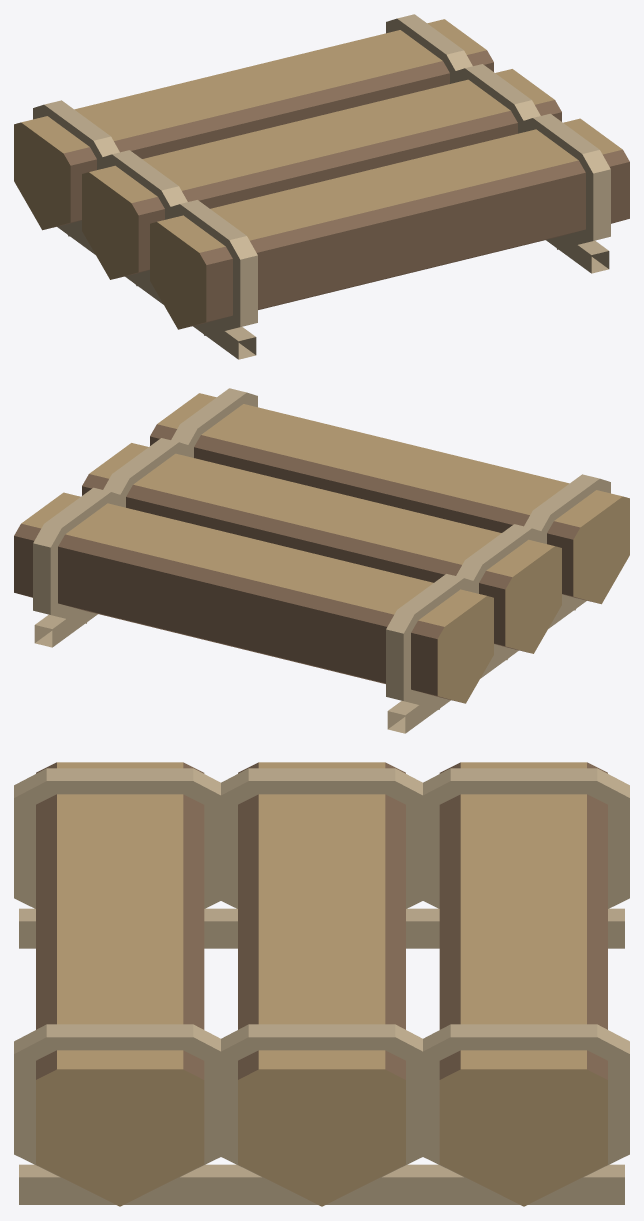
Rendered from Cliff_Prop_Bridge_Rope_Middle_NO_ROPE.obj.
3 renders of one model, top to bottom at view 1: azimuth 30°, elevation 25°; view 2: azimuth 150°, elevation 25°; view 3: azimuth 270°, elevation 25°, orthographic. The views are drawn at different scales.
Visible parts, largest first — view 1: object12, object3, object7, object11, object2, object5, object4, object8, object1, object6, object9; view 2: object3, object12, object7, object4, object8, object5, object6, object1, object11, object2, object9; view 3: object12, object3, object7, object9, object1, object11, object4, object2, object8, object5, object6.
Part boxes in pixels (x1=…): object12: x1=150, y1=118, x2=629, y2=329; object3: x1=14, y1=19, x2=493, y2=230; object7: x1=82, y1=69, x2=561, y2=279; object11: x1=169, y1=200, x2=257, y2=335; object2: x1=522, y1=113, x2=610, y2=249; object5: x1=101, y1=150, x2=187, y2=286; object4: x1=33, y1=100, x2=119, y2=236; object8: x1=386, y1=14, x2=472, y2=83; object1: x1=454, y1=64, x2=540, y2=133; object6: x1=57, y1=222, x2=256, y2=359; object9: x1=546, y1=235, x2=609, y2=273; object3: x1=14, y1=492, x2=493, y2=703; object12: x1=150, y1=393, x2=629, y2=604; object7: x1=82, y1=443, x2=561, y2=653; object4: x1=386, y1=574, x2=474, y2=709; object8: x1=33, y1=487, x2=119, y2=623; object5: x1=456, y1=524, x2=542, y2=660; object6: x1=387, y1=596, x2=586, y2=733; object1: x1=103, y1=438, x2=189, y2=507; object11: x1=524, y1=474, x2=610, y2=610; object2: x1=171, y1=388, x2=257, y2=457; object9: x1=34, y1=609, x2=97, y2=647; object12: x1=36, y1=762, x2=204, y2=1206; object3: x1=439, y1=762, x2=607, y2=1206; object7: x1=238, y1=762, x2=405, y2=1206; object9: x1=19, y1=1164, x2=624, y2=1204; object1: x1=216, y1=1024, x2=427, y2=1186; object11: x1=14, y1=768, x2=225, y2=908; object4: x1=418, y1=768, x2=629, y2=908; object2: x1=14, y1=1024, x2=225, y2=1187; object8: x1=418, y1=1024, x2=629, y2=1187; object5: x1=216, y1=768, x2=427, y2=908; object6: x1=19, y1=908, x2=624, y2=948.
Bounding box in the file's own units: 1.2 × 0.3084 × 1.02.
